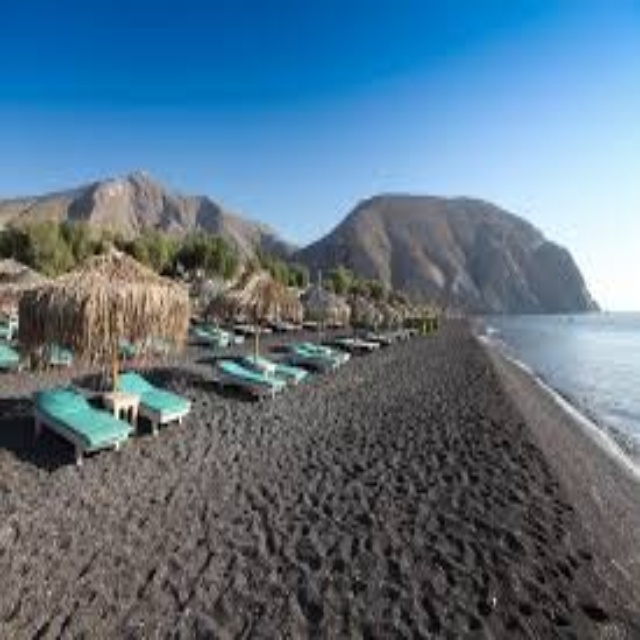linhaEspraiamento: (460, 313, 635, 467)
